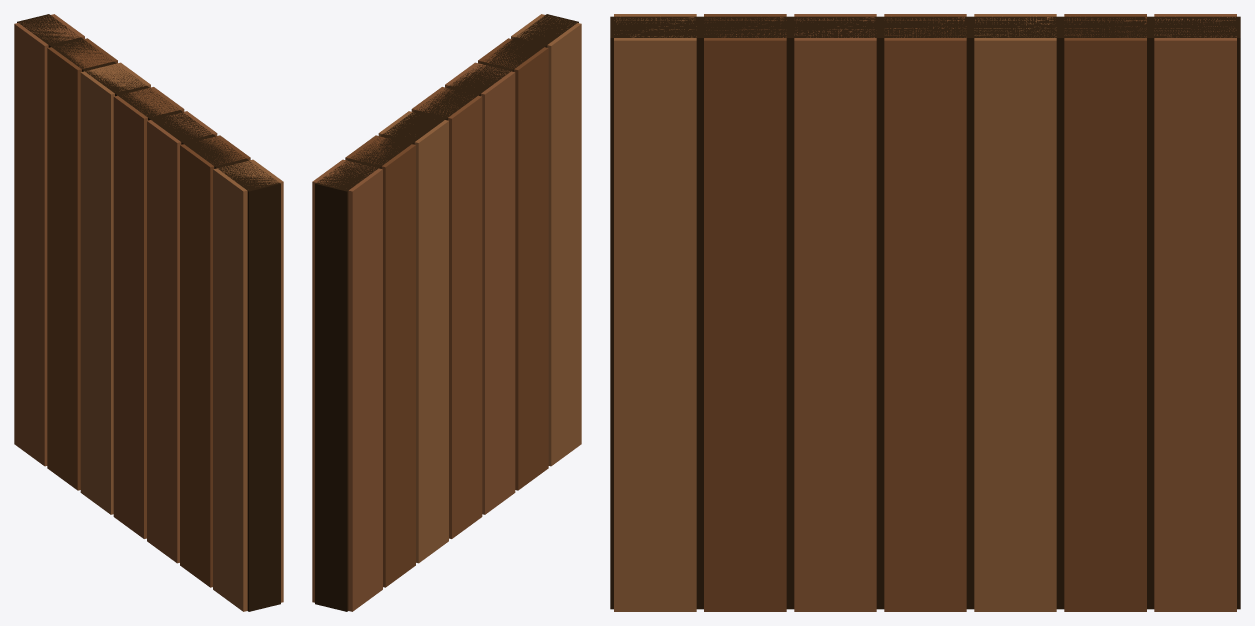
Rendered from modern-cedar.glb.
The picture shows the model from 3 angles, left to right: view 1: azimuth 30°, elevation 25°; view 2: azimuth 150°, elevation 25°; view 3: azimuth 270°, elevation 25°; orthographic projection. The views are drawn at different scales.
Parts seen in each view (by area): view 1: modern-cedar; view 2: modern-cedar; view 3: modern-cedar.
Part boxes in pixels (<box>): modern-cedar: <box>14,14,283,611</box>; modern-cedar: <box>312,14,581,611</box>; modern-cedar: <box>610,14,1240,611</box>.
Bounding box in the file's own units: 0.1 × 1 × 1.
